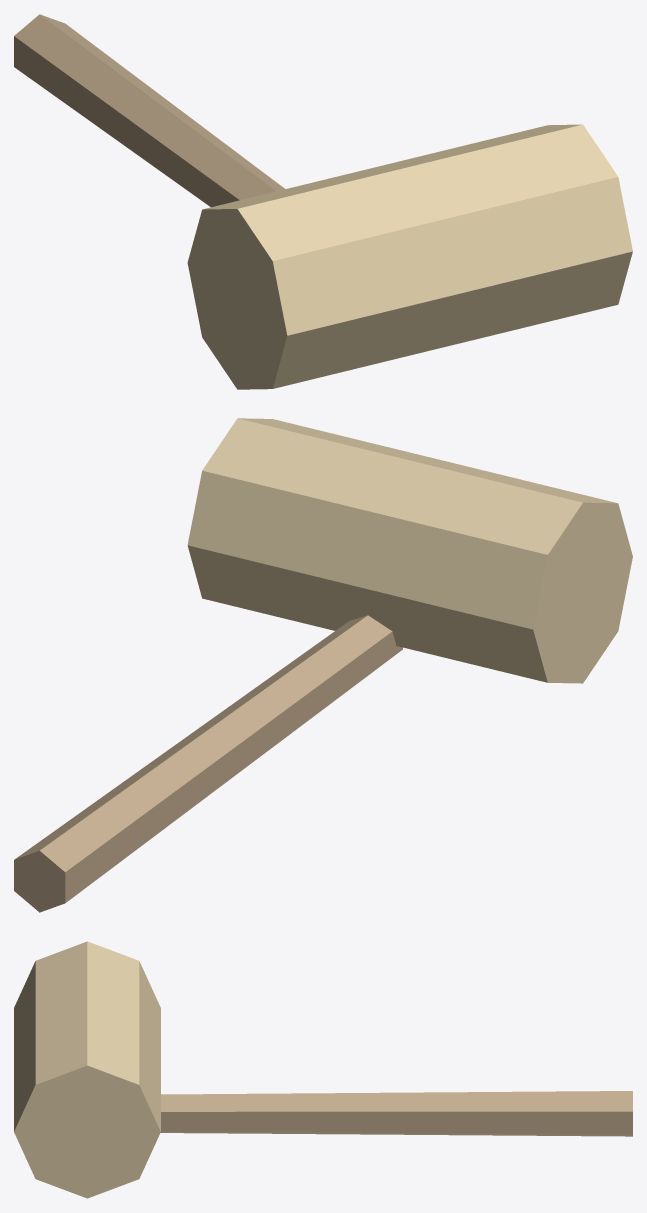
Rendered from prop-mallet-tin-blank.fbx.
3 views of the same model, one above another, from view 1: azimuth 30°, elevation 25°; view 2: azimuth 150°, elevation 25°; view 3: azimuth 270°, elevation 25° (orthographic). The views are drawn at different scales.
Visible parts, largest first — view 1: prop-mallet-tin-blank; view 2: prop-mallet-tin-blank; view 3: prop-mallet-tin-blank.
Boxes of the visible parts, <box> form: prop-mallet-tin-blank: <box>14,14,632,389</box>; prop-mallet-tin-blank: <box>14,418,632,912</box>; prop-mallet-tin-blank: <box>14,941,632,1198</box>.
Bounding box in the file's own units: 14 × 7 × 29.5.
